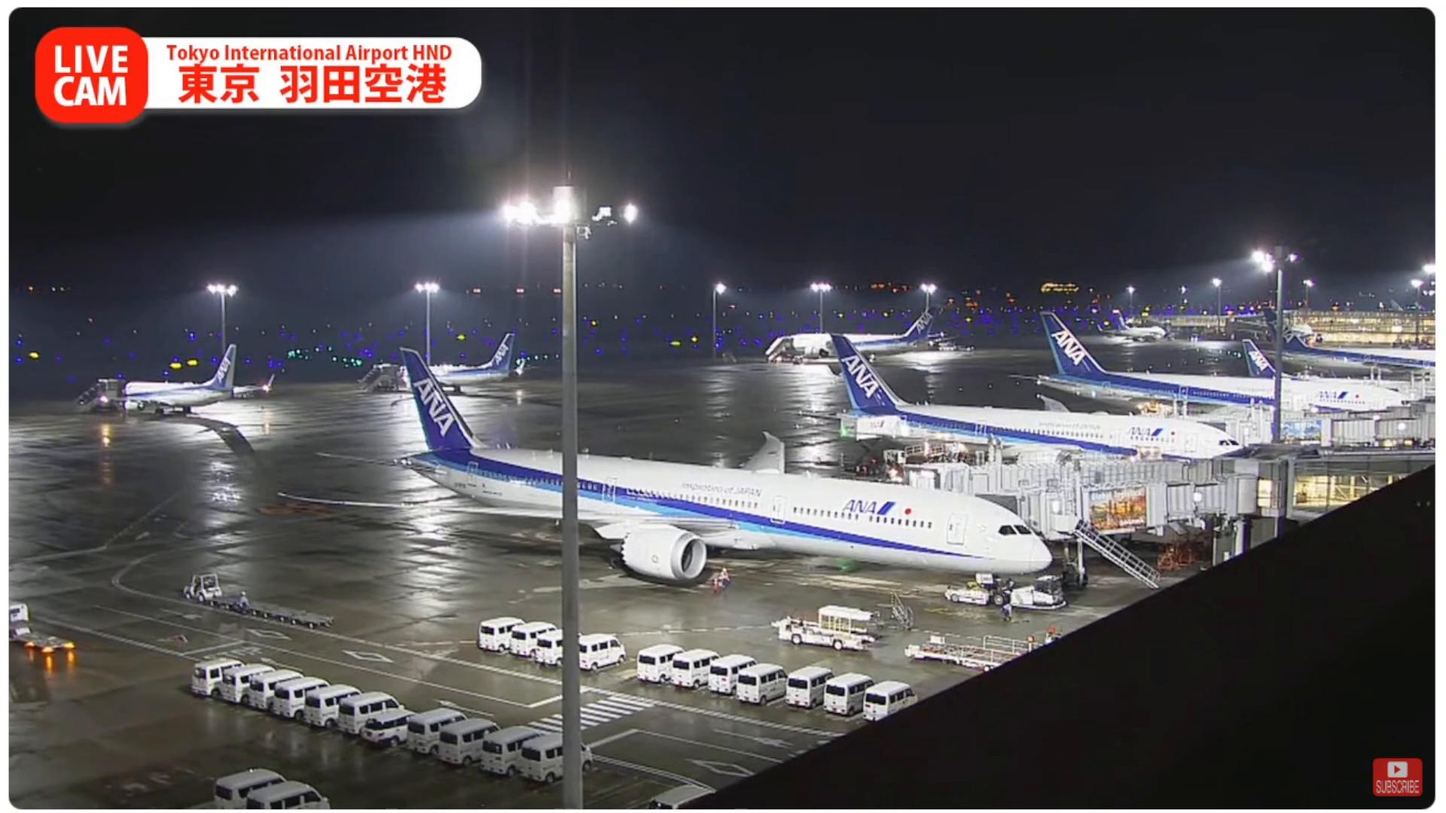APS: (933, 574, 1072, 616)
Aerobridge: (976, 471, 1284, 539), (905, 458, 1292, 488)
Airplane: (265, 343, 1059, 589)
Dolly: (222, 587, 348, 640)
JCPL: (900, 638, 1016, 674), (926, 632, 1048, 654)
Skyloader: (772, 602, 889, 668)
Tractor: (172, 567, 234, 610)
Window: (1286, 461, 1434, 519)
